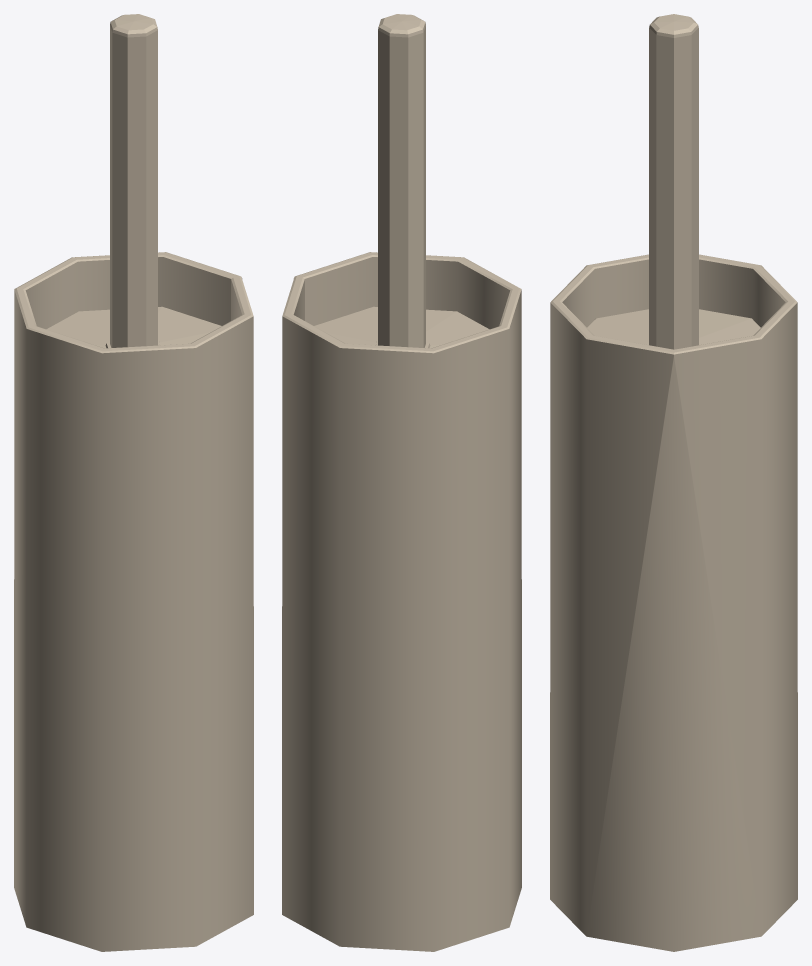
The model's file is toilet_brush_2_29_L.fbx.
The picture shows the model from 3 angles, left to right: view 1: azimuth 30°, elevation 25°; view 2: azimuth 150°, elevation 25°; view 3: azimuth 270°, elevation 25°; orthographic projection.
Visible parts, largest first — view 1: toilet_brush_2_29_L; view 2: toilet_brush_2_29_L; view 3: toilet_brush_2_29_L.
Boxes of the visible parts, x1=… form: toilet_brush_2_29_L: x1=14, y1=14, x2=253, y2=951; toilet_brush_2_29_L: x1=282, y1=14, x2=521, y2=951; toilet_brush_2_29_L: x1=550, y1=14, x2=797, y2=951.
Size of the model in its own units: 2.08 by 8.11 by 2.07.
